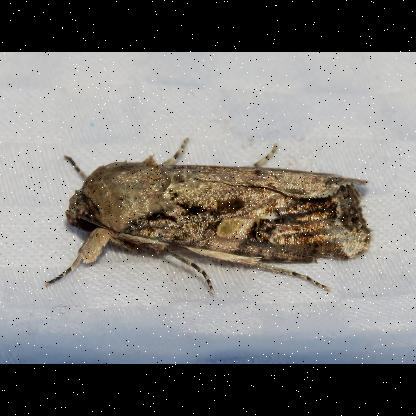Fall Armyworm Moth: (42, 134, 376, 300)
